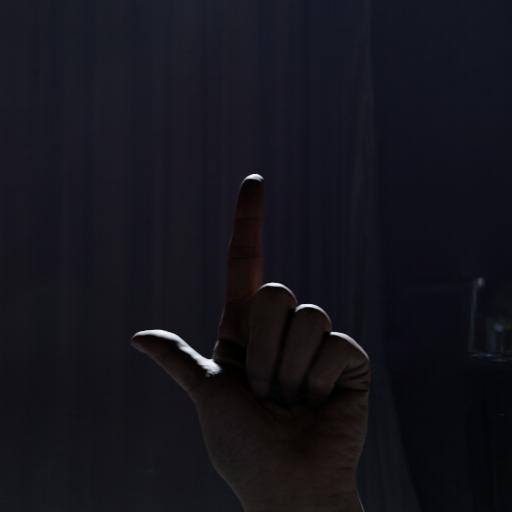L: (126, 159, 384, 512)
